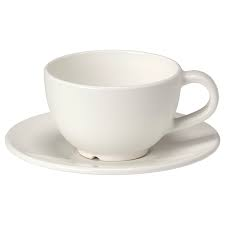cup: (42, 50, 223, 158)
